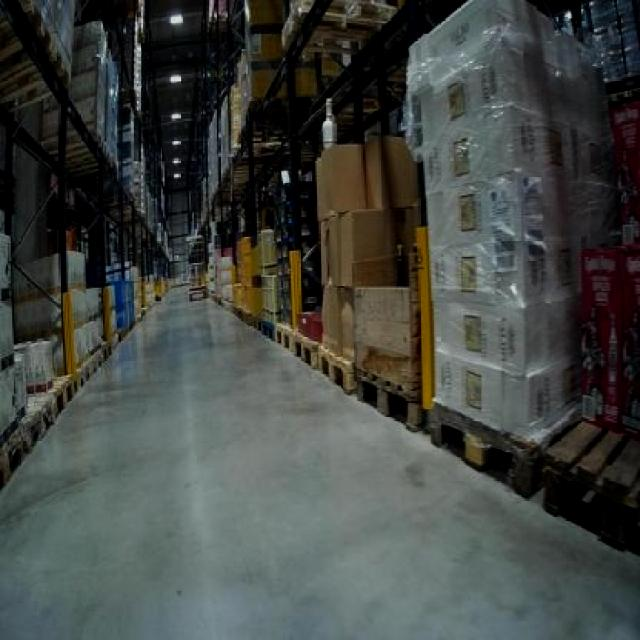floor: (0, 288, 637, 637)
pallets: (405, 0, 614, 494)
